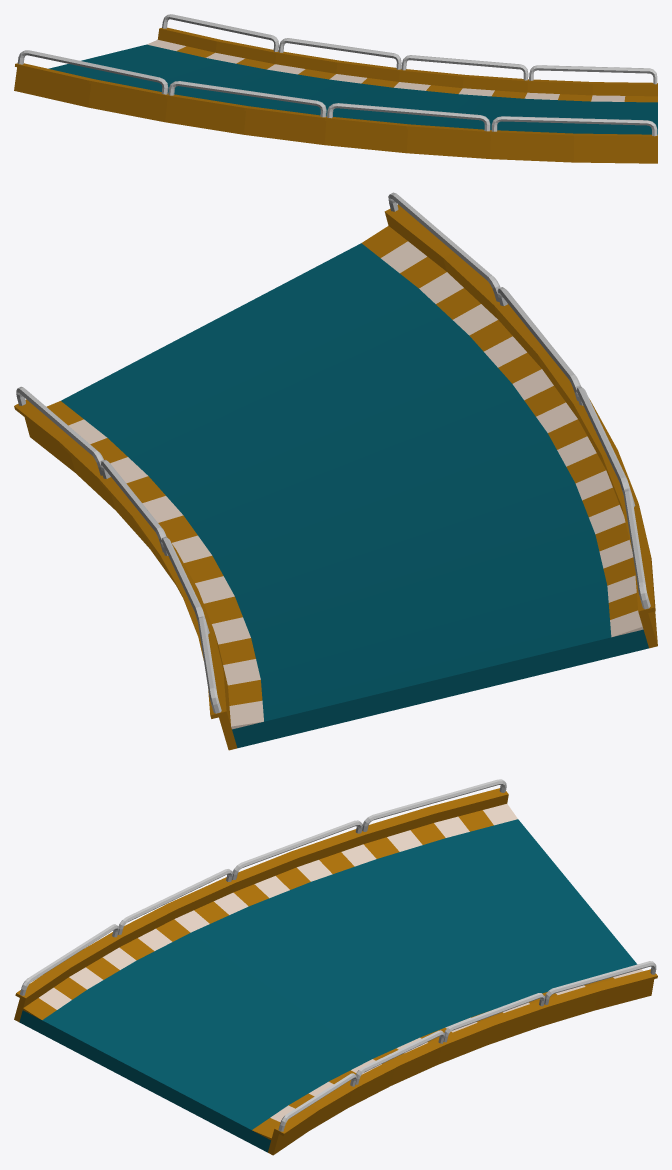
The model's file is bankedLeft-30-15_m.FBX.
3 renders of one model, top to bottom at view 1: azimuth 30°, elevation 25°; view 2: azimuth 150°, elevation 25°; view 3: azimuth 270°, elevation 25°, orthographic. The views are drawn at different scales.
Visible parts, largest first — view 1: wall_r, bankedLeft-30-15_m, wall_l, curbs_l; view 2: bankedLeft-30-15_m, curbs_r, wall_r, curbs_l, wall_l; view 3: bankedLeft-30-15_m, wall_l, wall_r, curbs_r, curbs_l.
Boxes of the visible parts, left/top/right/bottom form: wall_r: left=14, top=50, right=657, bottom=163; bankedLeft-30-15_m: left=48, top=44, right=657, bottom=134; wall_l: left=157, top=14, right=657, bottom=96; curbs_l: left=147, top=39, right=657, bottom=102; bankedLeft-30-15_m: left=61, top=243, right=648, bottom=748; curbs_r: left=361, top=226, right=643, bottom=637; wall_r: left=384, top=192, right=657, bottom=648; curbs_l: left=46, top=401, right=263, bottom=729; wall_l: left=14, top=386, right=237, bottom=750; bankedLeft-30-15_m: left=19, top=819, right=637, bottom=1152; wall_l: left=268, top=961, right=657, bottom=1155; wall_r: left=14, top=779, right=508, bottom=1021; curbs_r: left=23, top=804, right=517, bottom=1019; curbs_l: left=252, top=969, right=643, bottom=1139.
Size of what is drawn, in the model's own units: 416 by 80.3 by 416.
